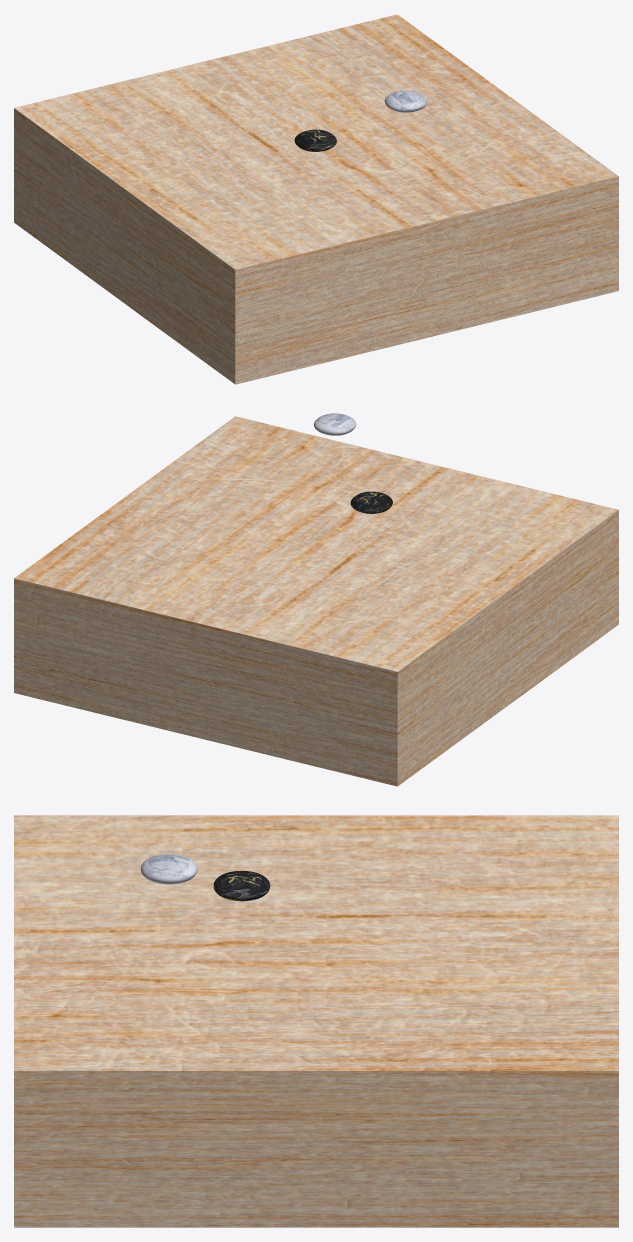
File: go-board-basic.glb
The picture shows the model from 3 angles, top to bottom: view 1: azimuth 30°, elevation 25°; view 2: azimuth 150°, elevation 25°; view 3: azimuth 270°, elevation 25°; orthographic projection. The views are drawn at different scales.
Parts seen in each view (by area): view 1: Cube, Cube.002, Cube.001; view 2: Cube, Cube.001, Cube.002; view 3: Cube, Cube.002, Cube.001.
Part boxes in pixels (x1,y1,x2,y2): Cube: (14,14,618,384); Cube.002: (384,90,426,112); Cube.001: (294,129,336,151); Cube: (14,416,618,786); Cube.001: (350,491,392,513); Cube.002: (314,413,356,435); Cube: (14,815,618,1227); Cube.002: (140,854,197,884); Cube.001: (213,870,270,901).
Bounding box in the file's own units: 7 × 3.36 × 7.
3 materials, 3 textured.
